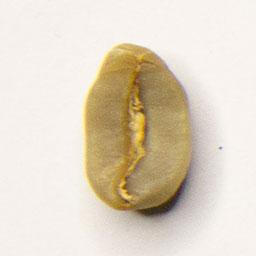longberry: (78, 38, 194, 211)
